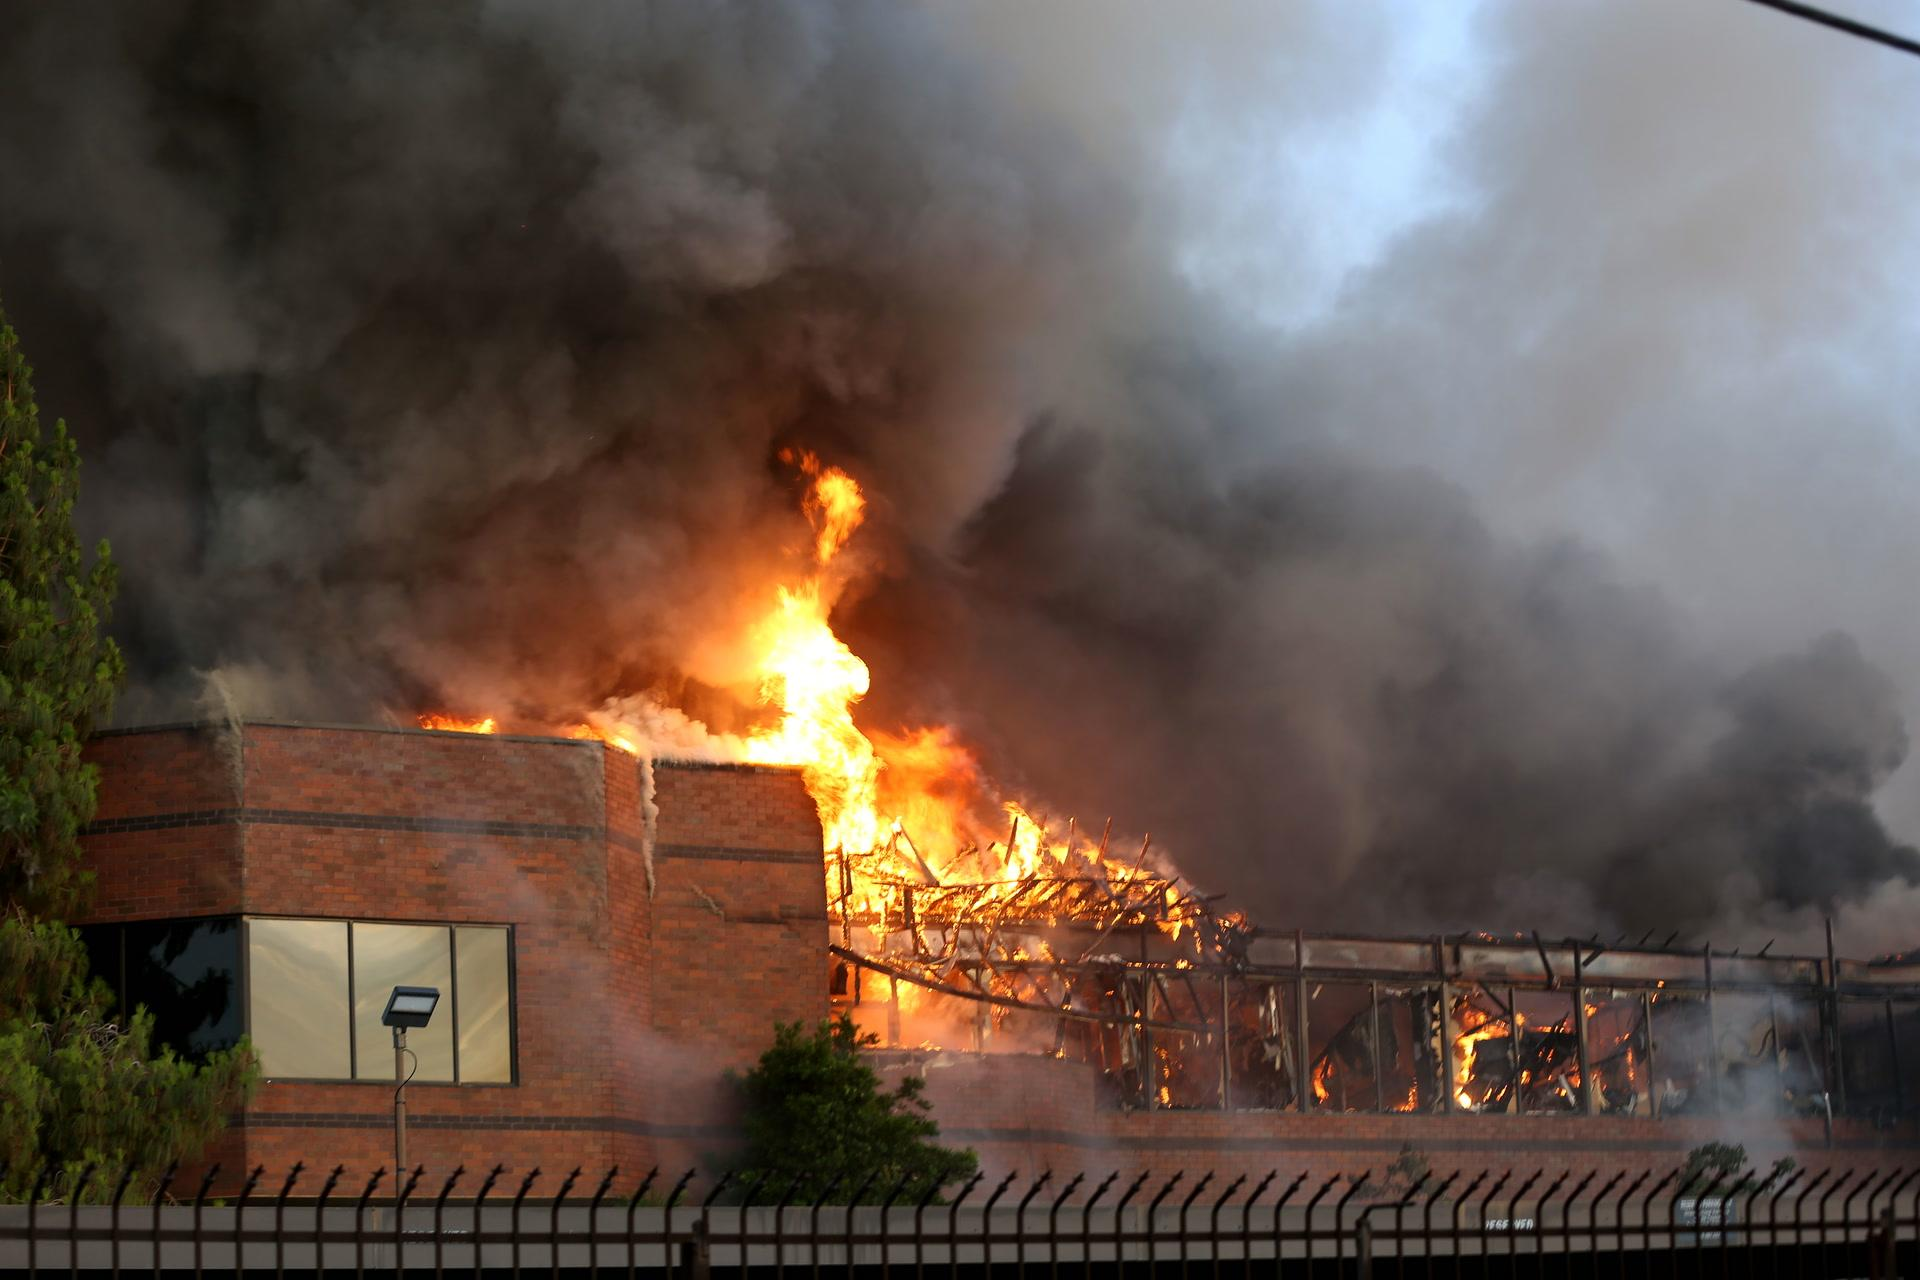Fire: (413, 457, 1221, 961), (1371, 964, 1684, 1109)
